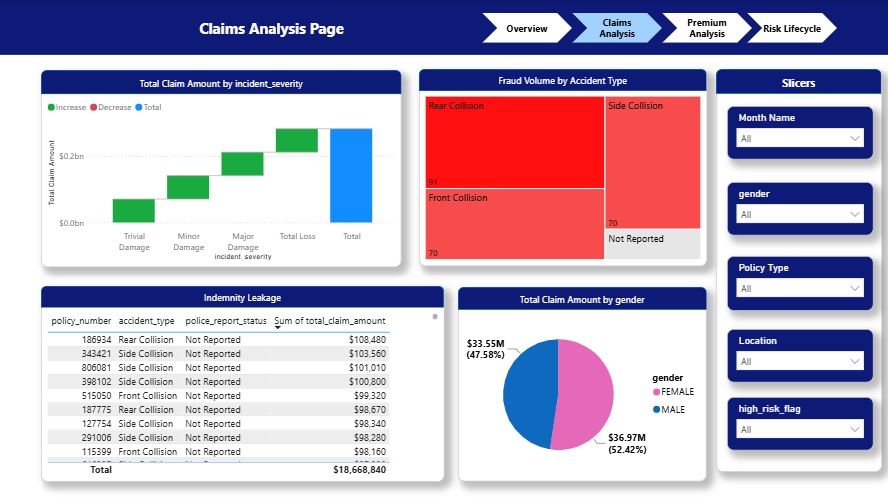

This screenshot's page, from the dashboard's own definition file:
{"tool":"powerbi","page":{"name":"Claims Analysis","canvas":[1280,720],"ordinal":1},"visuals":[{"type":"shape","box":[0,0,1280.2,79.2],"z":0},{"type":"tableEx","title":"Indemnity Leakage","fields":{"Values":["v_auto_refined.policy_number","v_auto_refined.accident_type","v_auto_refined.police_report_status","Sum(v_auto_refined.total_claim_amount)"]},"box":[59.7,412,580.6,282],"z":0,"group":"g3"},{"type":"shape","box":[694.3,18.6,130,42.9],"z":1000},{"type":"treemap","fields":{"Group":["v_auto_refined.accident_type"],"Values":["Sum(v_auto_refined.is_fraud_flag)"]},"box":[603,100,414.9,283.6],"z":1000,"group":"g2"},{"type":"shape","box":[824.3,18.6,130,42.9],"z":2000},{"type":"shape","box":[952.9,18.6,130,42.9],"z":3000},{"type":"shape","box":[1075.7,18.6,130,42.9],"z":4000},{"type":"shape","box":[190.8,13.8,401.5,52.3],"z":5000},{"type":"group","id":"g1","title":"Group 1","box":[59.7,101.5,519.4,283.6],"z":6000},{"type":"waterfallChart","fields":{"Category":["v_auto_refined.incident_severity"],"Y":["_Measures.Total Claim Amount"]},"box":[59.7,101.5,519.4,283.6],"z":6000,"group":"g1"},{"type":"group","id":"g2","title":"Group 2","box":[603,100,414.9,283.6],"z":7000},{"type":"group","id":"g3","title":"Group 3","box":[59.7,411.9,580.6,282.1],"z":8000},{"type":"pieChart","fields":{"Category":["Dim_Gender.gender"],"Y":["_Measures.Total Claim Amount"]},"box":[659.9,414,358,280],"z":8000,"group":"g4"},{"type":"shape","box":[603.3,100.1,414.2,31.6],"z":9000,"group":"g2"},{"type":"group","id":"g4","title":"Group 4","box":[659.7,413.4,358.2,280.6],"z":9000},{"type":"shape","box":[1030.8,100,238.6,580],"z":10000},{"type":"shape","box":[59.7,411.9,580.5,31.2],"z":10000,"group":"g3"},{"type":"slicer","fields":{"Values":["v_executive_summary.business_line"]},"box":[1047.3,368.7,211.2,78.6],"z":11000},{"type":"shape","box":[659.7,413.4,358.1,32.7],"z":11000,"group":"g4"},{"type":"slicer","fields":{"Values":["Dim_Geography.policy_state"]},"box":[1047.3,474.1,211.2,77.2],"z":12000},{"type":"slicer","fields":{"Values":["Dim_Gender.gender"]},"box":[1047.3,261.6,211.2,76.8],"z":13000},{"type":"slicer","fields":{"Values":["v_executive_summary.high_risk_flag"]},"box":[1047.3,571.4,211.2,77.2],"z":14000},{"type":"shape","box":[59.7,101.7,519.2,35],"z":14003,"group":"g1"},{"type":"slicer","fields":{"Values":["Dim_Calendar.Month"]},"box":[1047.3,152.7,211.2,77.2],"z":15000},{"type":"shape","box":[1031.2,98.7,238.4,35.7],"z":16000}]}

Visuals, with their boxes in screenshot pixels (x1, y1, x2, y2), scaled from the page's 1280x720 canvas onto the 888x499 screenshot:
shape: Rect(0, 0, 887, 55)
"Indemnity Leakage" tableEx: Rect(41, 286, 444, 481)
shape: Rect(482, 13, 572, 43)
treemap - v_auto_refined.accident_type x Sum(v_auto_refined.is_fraud_flag): Rect(418, 69, 706, 266)
shape: Rect(572, 13, 662, 43)
shape: Rect(661, 13, 751, 43)
shape: Rect(746, 13, 836, 43)
shape: Rect(132, 10, 411, 46)
"Group 1" group: Rect(41, 70, 402, 267)
waterfallChart - v_auto_refined.incident_severity x _Measures.Total Claim Amount: Rect(41, 70, 402, 267)
"Group 2" group: Rect(418, 69, 706, 266)
"Group 3" group: Rect(41, 285, 444, 481)
pieChart - Dim_Gender.gender x _Measures.Total Claim Amount: Rect(458, 287, 706, 481)
shape: Rect(419, 69, 706, 91)
"Group 4" group: Rect(458, 287, 706, 481)
shape: Rect(715, 69, 881, 471)
shape: Rect(41, 285, 444, 307)
slicer - v_executive_summary.business_line: Rect(727, 256, 873, 310)
shape: Rect(458, 287, 706, 309)
slicer - Dim_Geography.policy_state: Rect(727, 329, 873, 382)
slicer - Dim_Gender.gender: Rect(727, 181, 873, 235)
slicer - v_executive_summary.high_risk_flag: Rect(727, 396, 873, 450)
shape: Rect(41, 70, 402, 95)
slicer - Dim_Calendar.Month: Rect(727, 106, 873, 159)
shape: Rect(715, 68, 881, 93)
